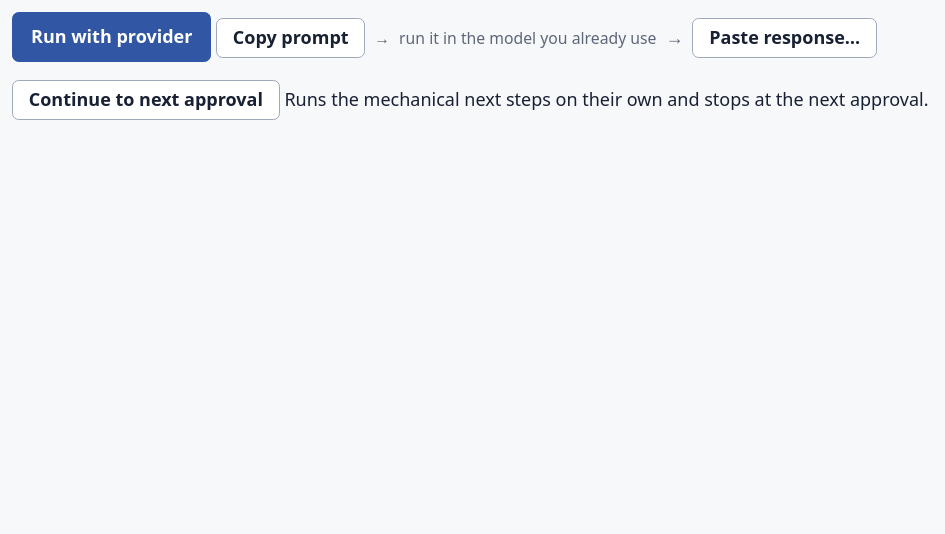
Test case: PrimaryAction › save_response before the skeleton has module rows still uses the plain manual loop
Check: the button "Run with provider" is shown, box [12,12,211,62]
Click the button "Paste response…".
click(785, 38)  # box [692,18,877,58]
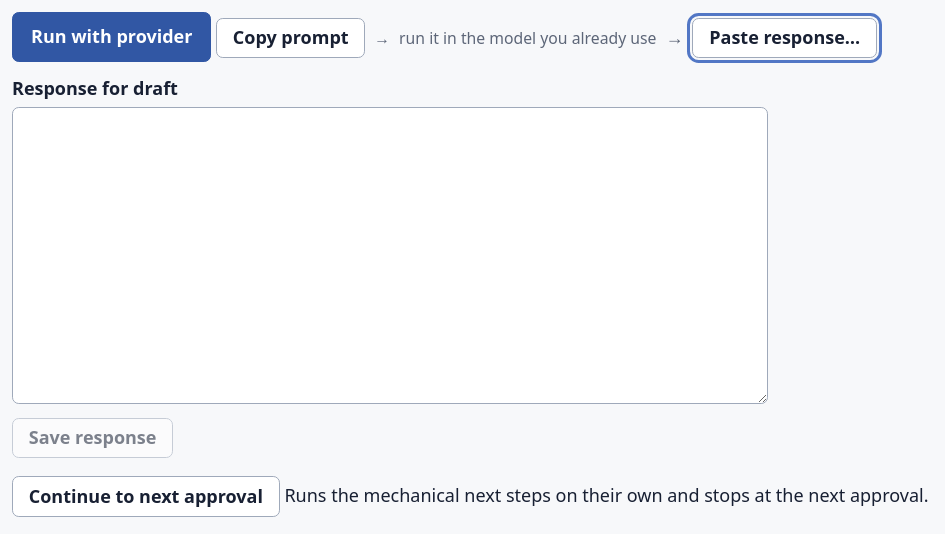
Check: the text box labelled "Response for draft" is shown, box [12,107,768,404]
